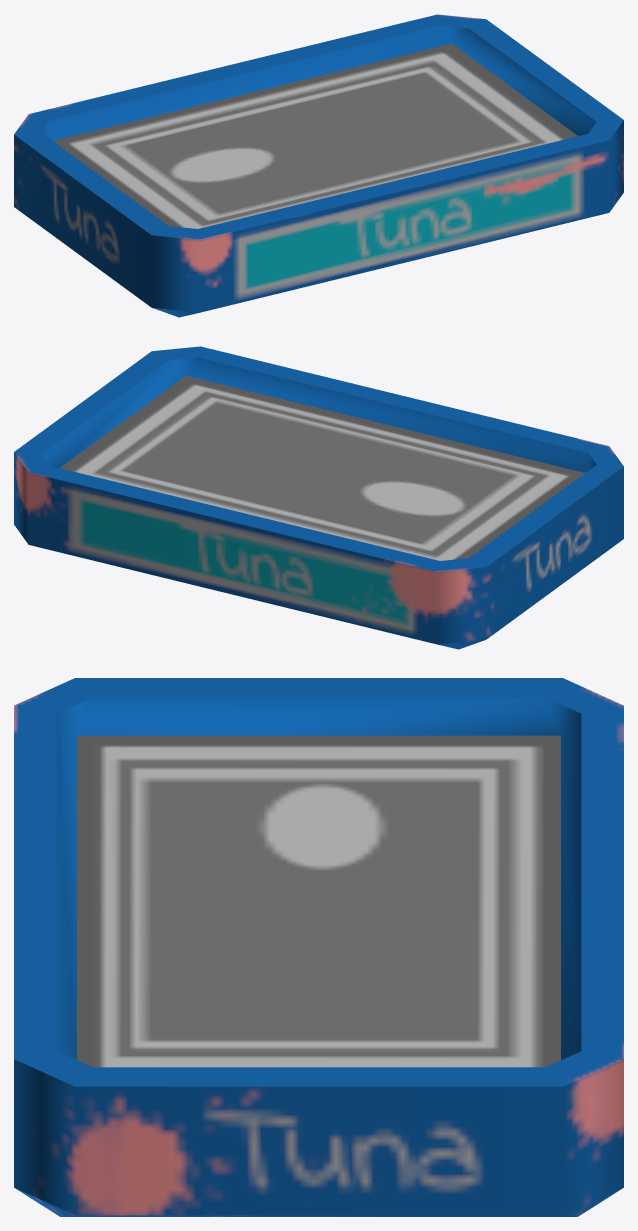
The model's file is Canned_05.fbx.
The picture shows the model from 3 angles, top to bottom: view 1: azimuth 30°, elevation 25°; view 2: azimuth 150°, elevation 25°; view 3: azimuth 270°, elevation 25°; orthographic projection. The views are drawn at different scales.
Visible parts, largest first — view 1: Canned_05; view 2: Canned_05; view 3: Canned_05.
Part boxes in pixels (x1,y1,x2,y2): Canned_05: [14, 14, 623, 317]; Canned_05: [14, 346, 623, 649]; Canned_05: [14, 678, 623, 1216].
Bounding box in the file's own units: 17.43 × 2.99 × 11.
